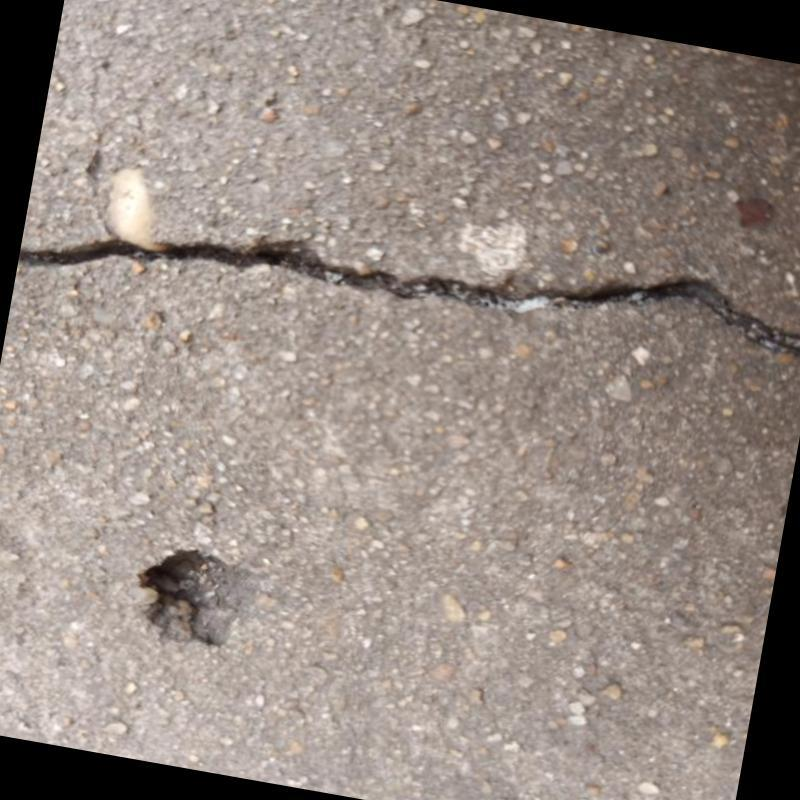crack: (18, 239, 800, 357)
